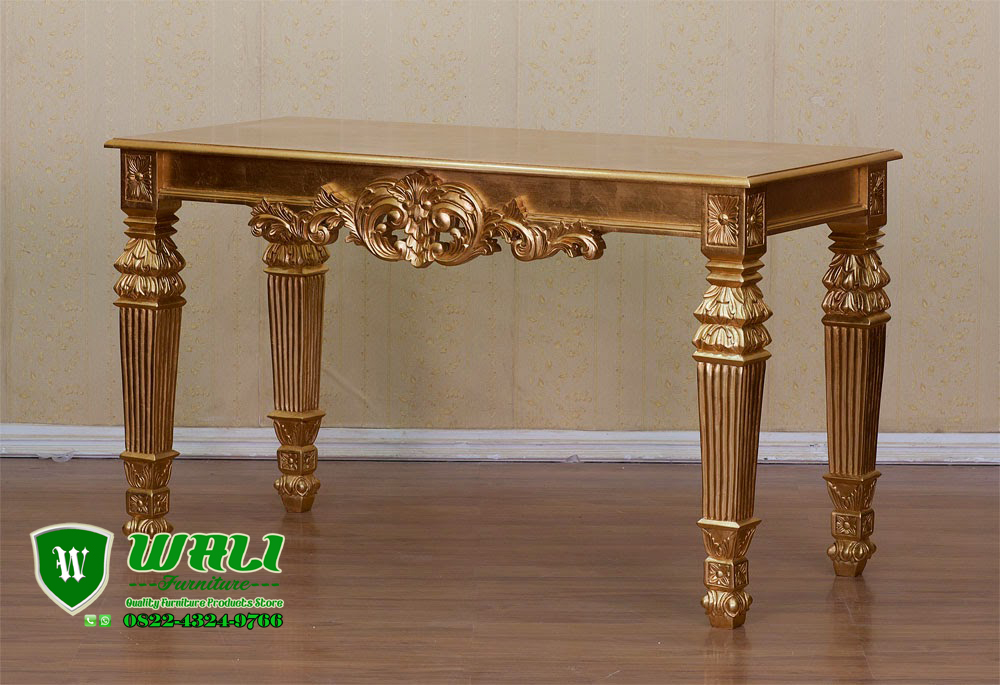Carving Table: (105, 115, 908, 636)
